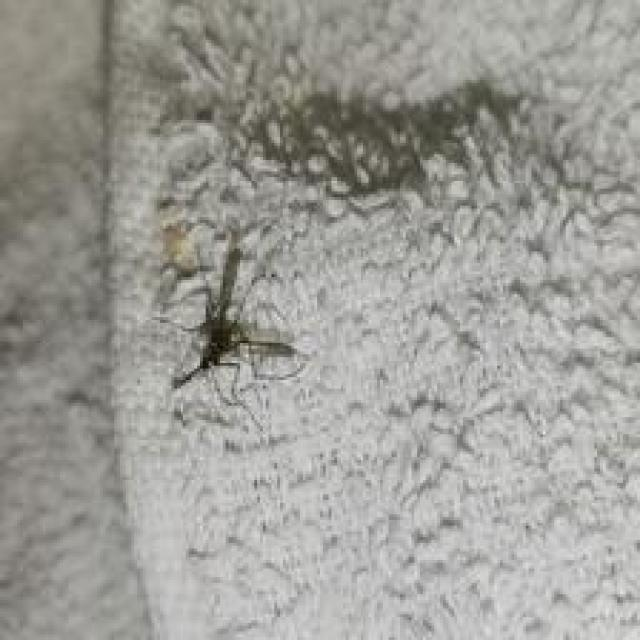Culex: (152, 227, 308, 407)
